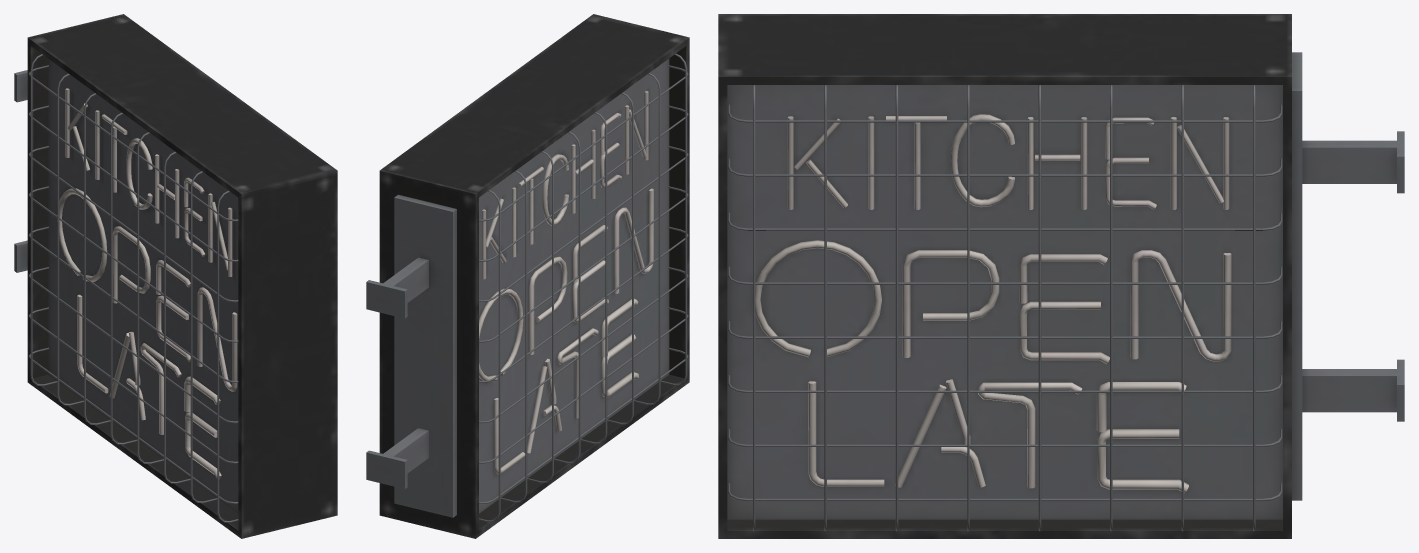
Rendered from SM_NeonSigns_Kitchen.FBX.
3 views of the same model, side by side, from view 1: azimuth 30°, elevation 25°; view 2: azimuth 150°, elevation 25°; view 3: azimuth 270°, elevation 25° (orthographic). The views are drawn at different scales.
Visible parts, largest first — view 1: SM_NeonSigns_Kitchen_LOD0; view 2: SM_NeonSigns_Kitchen_LOD0; view 3: SM_NeonSigns_Kitchen_LOD0.
Boxes of the visible parts, box(x1,y1,x2,y2) form: SM_NeonSigns_Kitchen_LOD0: box(14, 14, 337, 538); SM_NeonSigns_Kitchen_LOD0: box(366, 14, 689, 538); SM_NeonSigns_Kitchen_LOD0: box(718, 14, 1404, 538).
Size of what is drawn, in the model's own units: 42.77 by 161 by 120.
